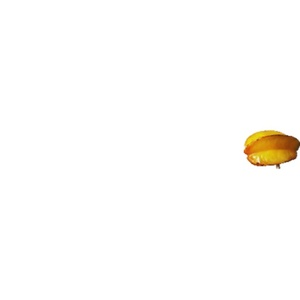carambola: (244, 131, 300, 170)
